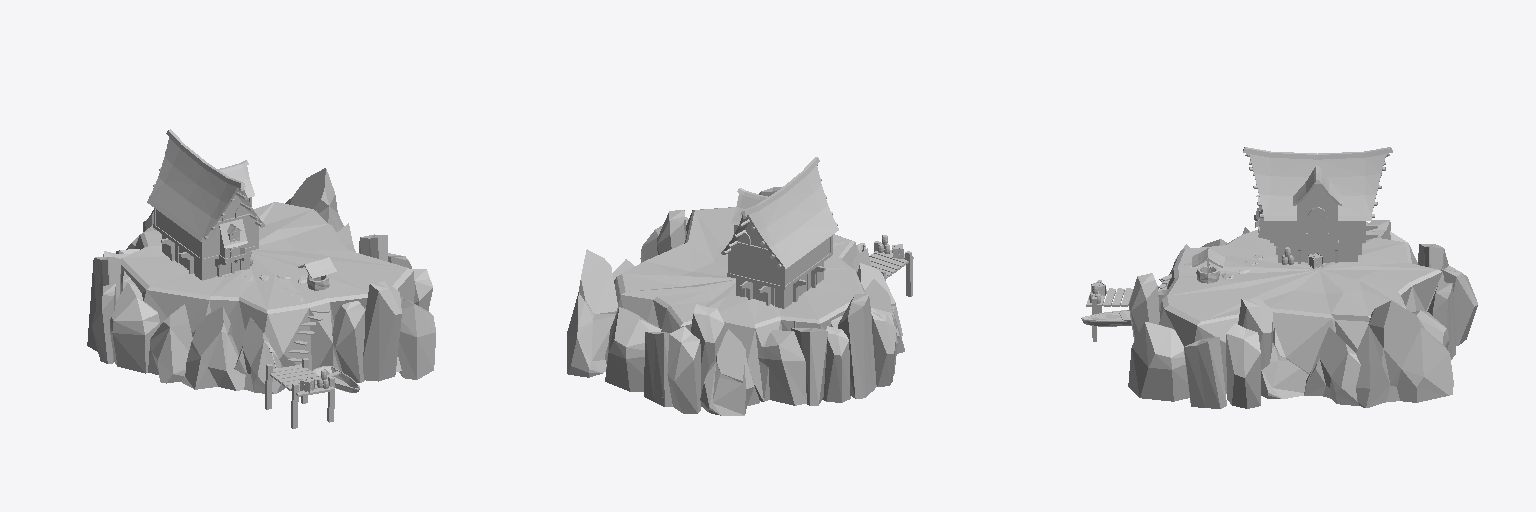
File: low_poly_medieval_island.obj
3 renders of one model, left to right at view 1: azimuth 30°, elevation 25°; view 2: azimuth 150°, elevation 25°; view 3: azimuth 270°, elevation 25°, orthographic.
Parts seen in each view (by area): view 1: stone, grass, wood, roof, plaster, cobble; view 2: stone, grass, roof, wood, plaster, cobble; view 3: stone, grass, roof, wood, plaster, cobble.
Boxes of the visible parts, box(x1,y1,x2,y2) form: stone: box(87, 168, 435, 393); grass: box(122, 202, 406, 309); wood: box(149, 129, 359, 428); roof: box(147, 137, 336, 278); plaster: box(156, 195, 255, 277); cobble: box(162, 231, 329, 290); stone: box(567, 187, 904, 415); grass: box(622, 207, 860, 323); roof: box(721, 165, 838, 268); wood: box(723, 157, 913, 305); plaster: box(730, 222, 829, 303); cobble: box(736, 262, 823, 308); stone: box(1128, 220, 1477, 408); grass: box(1167, 230, 1437, 320); roof: box(1192, 154, 1385, 266); wood: box(1081, 147, 1392, 341); plaster: box(1258, 185, 1361, 262); cobble: box(1196, 206, 1357, 283).
Size of the model in its own units: 20.13 by 12.37 by 23.84.